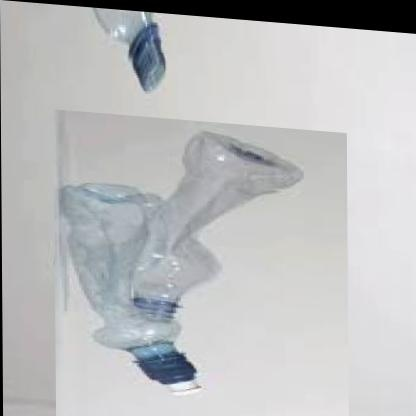trash: (62, 131, 302, 383)
